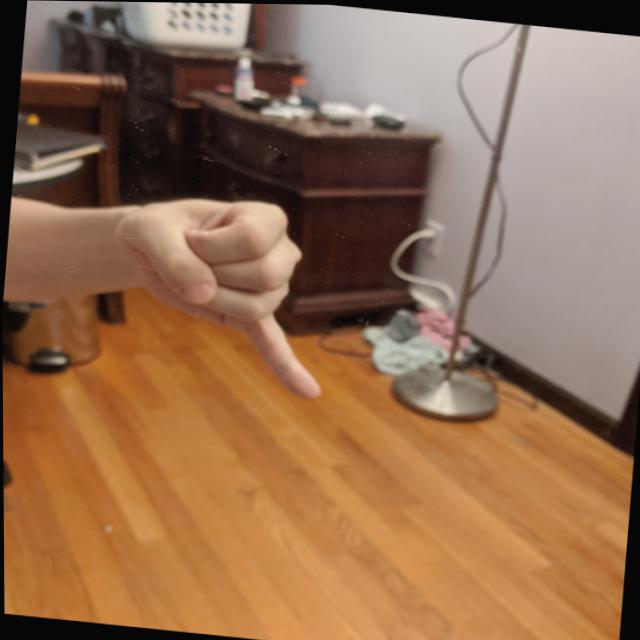J: (110, 181, 344, 407)
